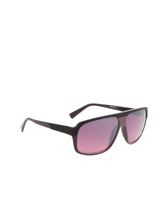glasses: (19, 96, 155, 157)
